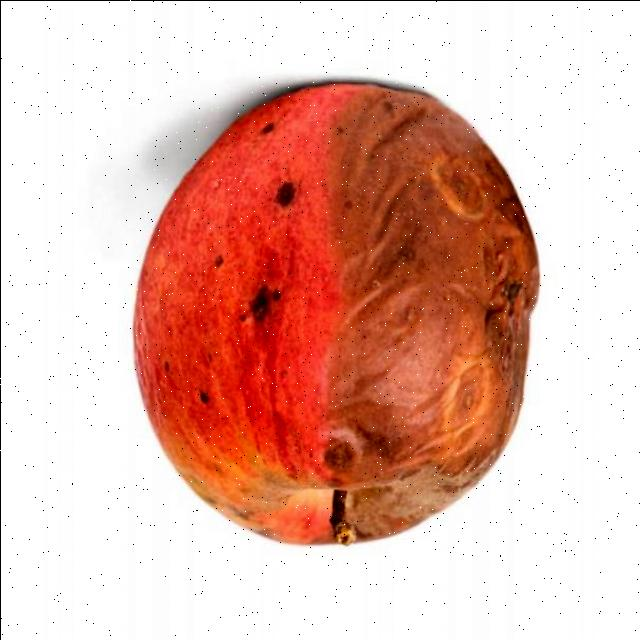ROT: (107, 59, 553, 556)
